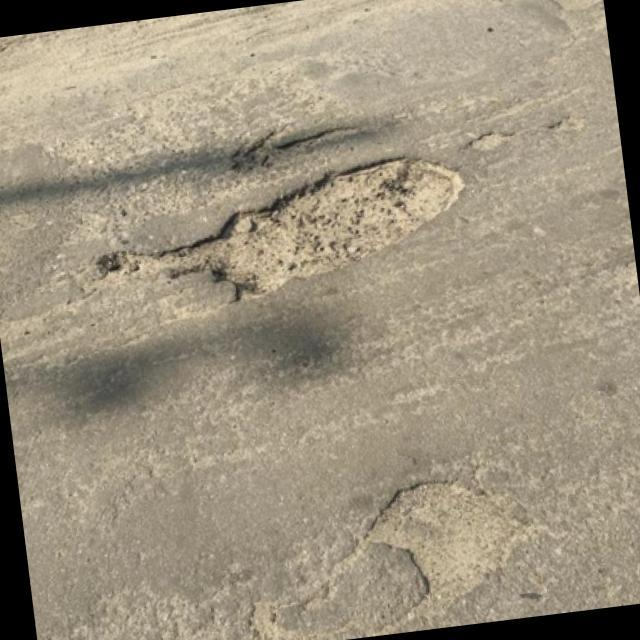Pothole: (255, 481, 530, 640), (192, 158, 462, 294)
